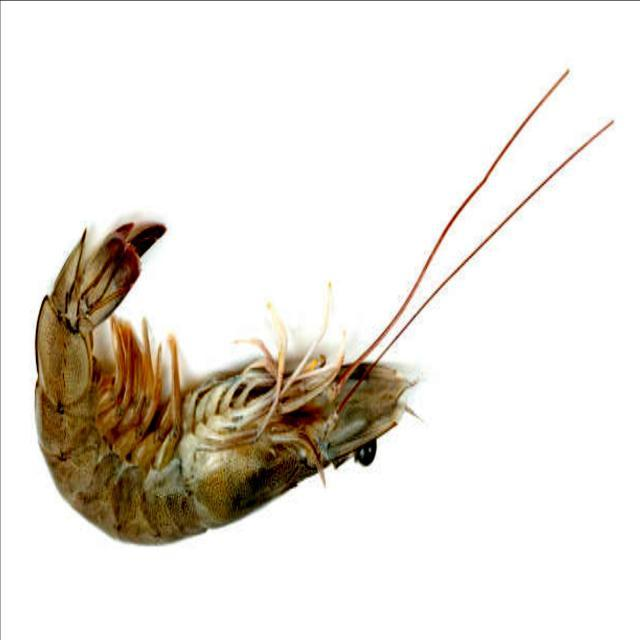shrimp: (35, 229, 409, 545)
